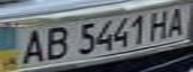1: (127, 11, 151, 45)
4: (93, 17, 118, 52), (112, 16, 136, 48)
5: (75, 20, 100, 55)
A: (15, 26, 51, 66), (163, 4, 190, 38)
B: (39, 24, 72, 62)
H: (145, 8, 175, 41)
